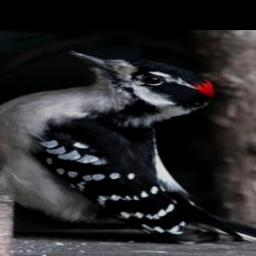Woodpecker: (0, 50, 256, 243)
